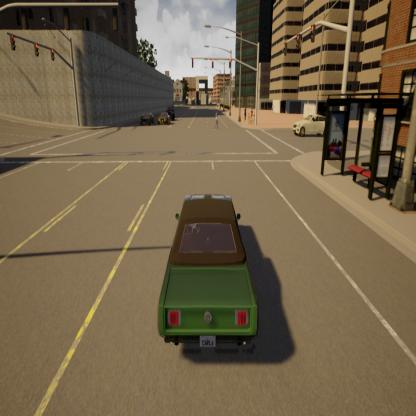Cars: (148, 185, 271, 374), (287, 107, 341, 140), (140, 110, 154, 130), (163, 102, 177, 120), (158, 109, 170, 127)
Pedestrian: (212, 106, 221, 131), (248, 106, 256, 124), (242, 104, 248, 122)
